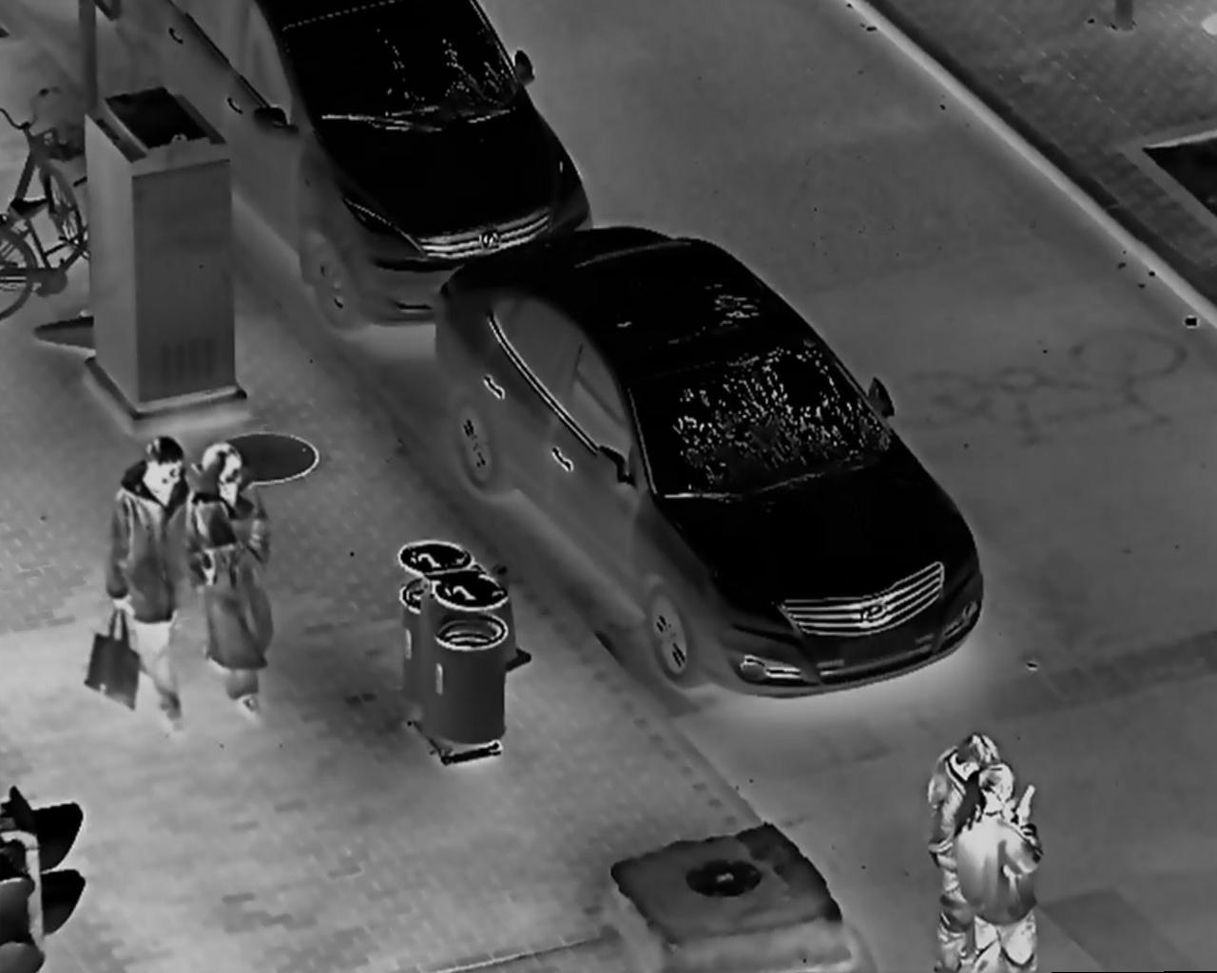person: (101, 433, 194, 738), (183, 442, 276, 725), (952, 761, 1047, 973), (923, 733, 1002, 973)
